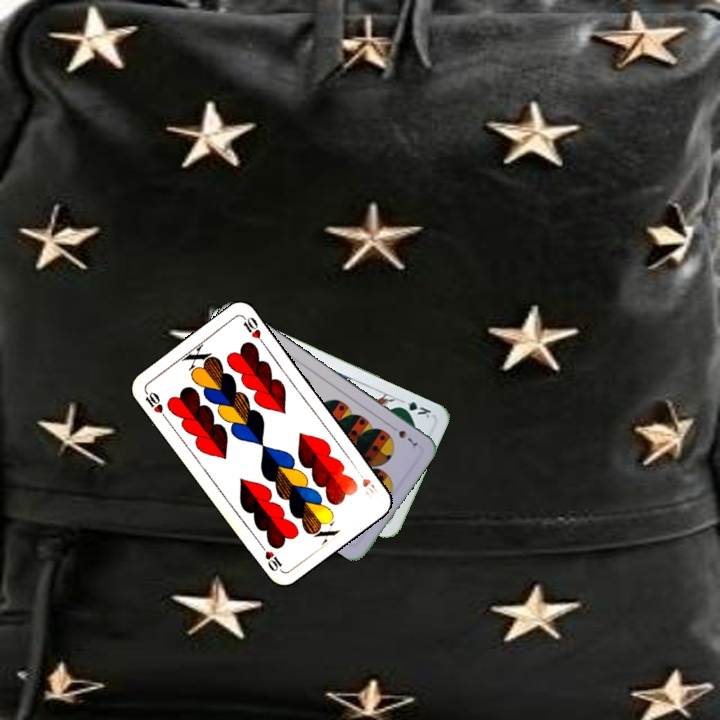GK: (394, 395, 435, 421)
H10: (352, 465, 381, 501), (141, 387, 170, 422)
S7: (386, 421, 420, 449)
